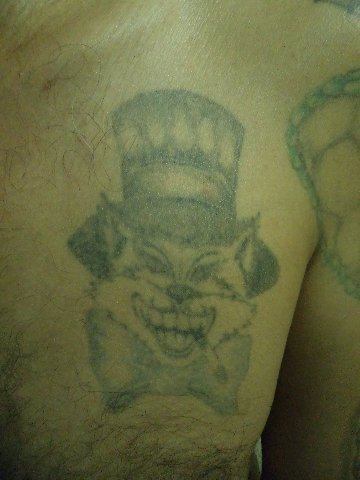tatu8_kot: (67, 91, 271, 416)
